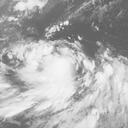cyclone: (26, 45, 77, 103)
